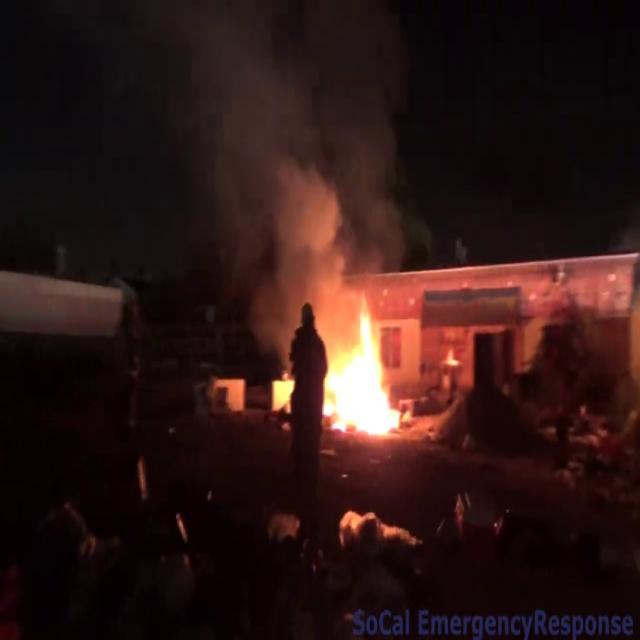Fire: (316, 298, 411, 438)
Smoke: (164, 0, 432, 316)
